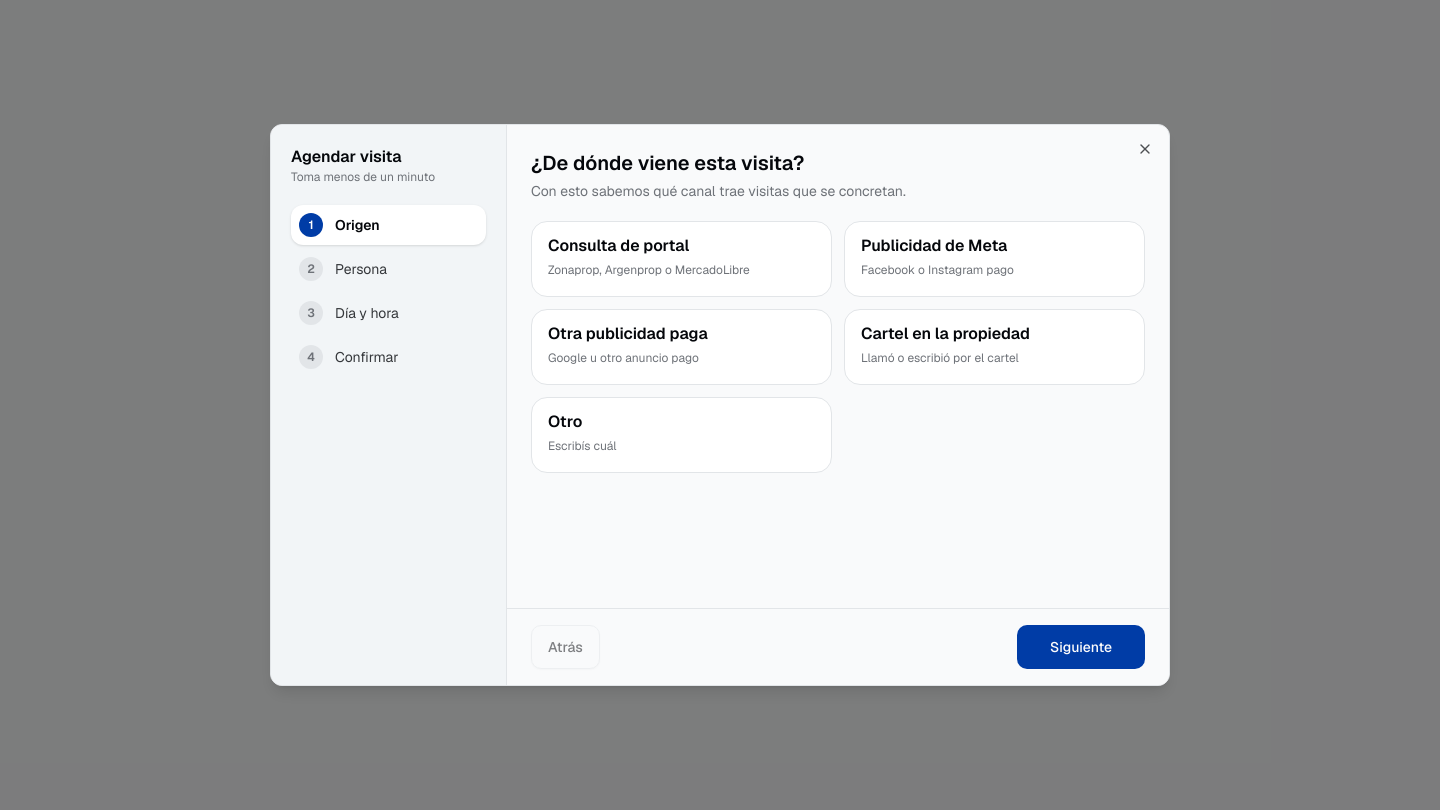
AgendarVisitaDialog en celular — el aviso de la fila no tapa el nombre › el nombre puede partirse en vez de quedar aplastado
Click the button "Consulta de portal Zonaprop, Argenprop o MercadoLibre" at (682, 259), box 531,221 -> 832,297
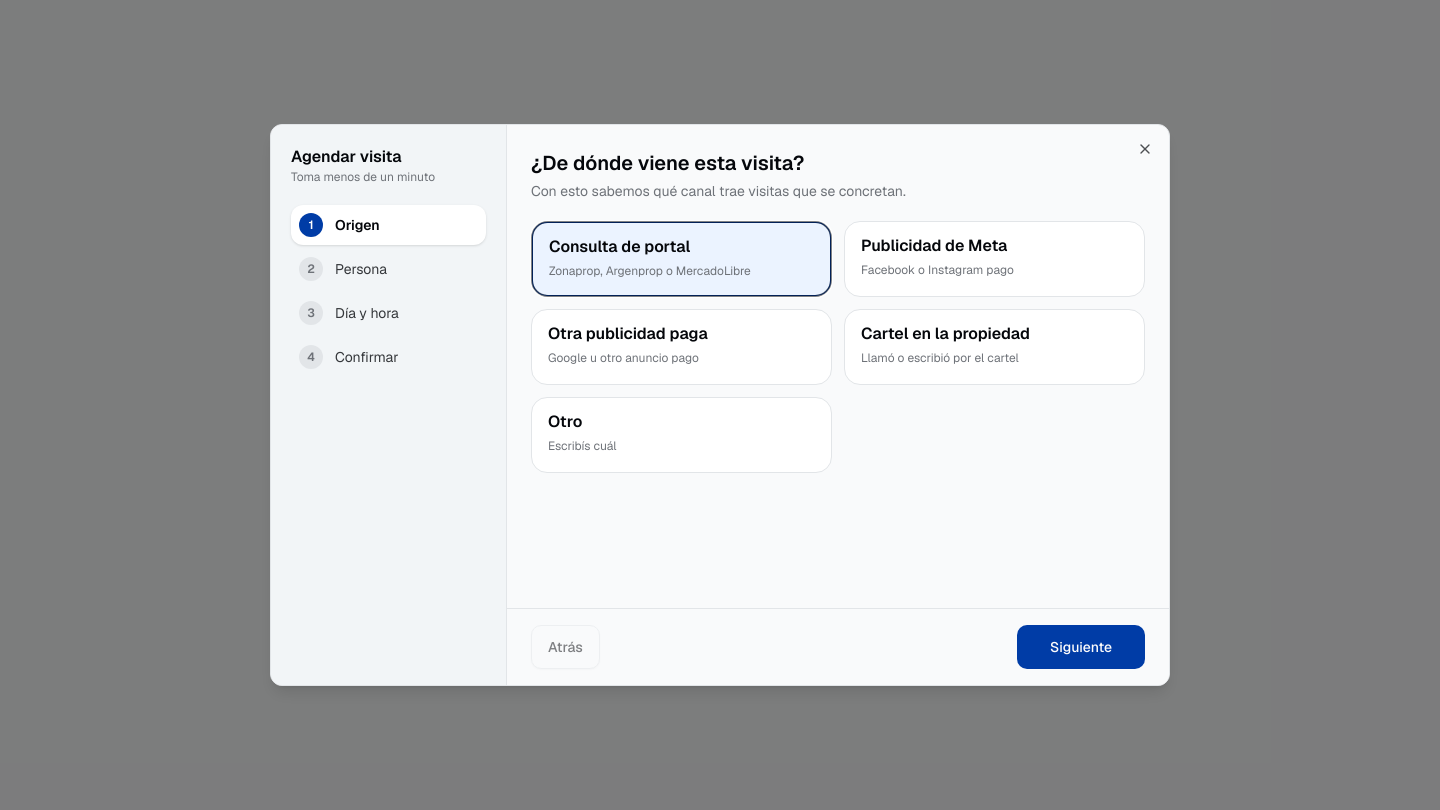
Click the button "Siguiente" at (1081, 647), box 1017,625 -> 1145,669
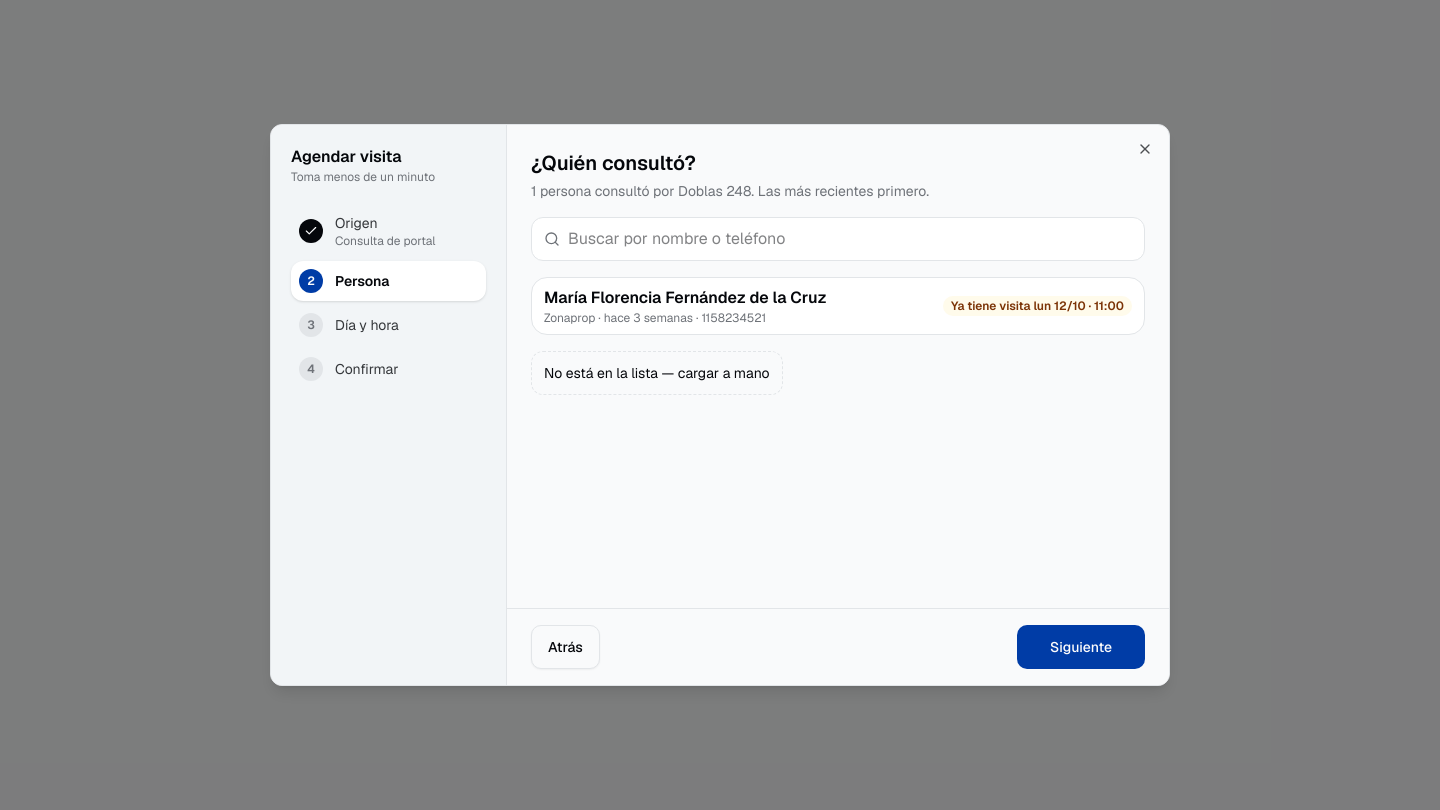
expect the text "María Florencia Fernández de la Cruz" is shown: met, box 544,287 -> 826,308
